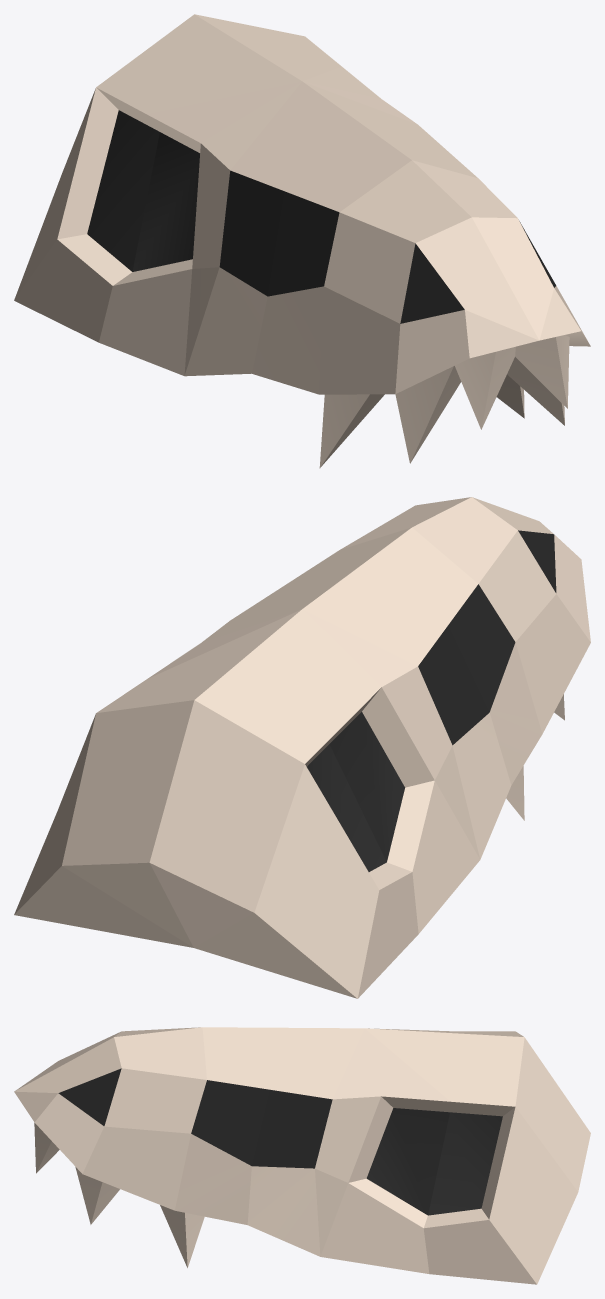
Rendered from tribal-skull-trex.glb.
3 views of the same model, one above another, from view 1: azimuth 30°, elevation 25°; view 2: azimuth 150°, elevation 25°; view 3: azimuth 270°, elevation 25° (orthographic). The views are drawn at different scales.
Parts seen in each view (by area): view 1: SM_Skull_Trex; view 2: SM_Skull_Trex; view 3: SM_Skull_Trex.
Boxes of the visible parts, left/top/right/bottom form: SM_Skull_Trex: left=14, top=14, right=590, bottom=468; SM_Skull_Trex: left=14, top=497, right=590, bottom=998; SM_Skull_Trex: left=14, top=1027, right=590, bottom=1284.
Size of the model in its own units: 1.02 by 0.7856 by 2.01.
